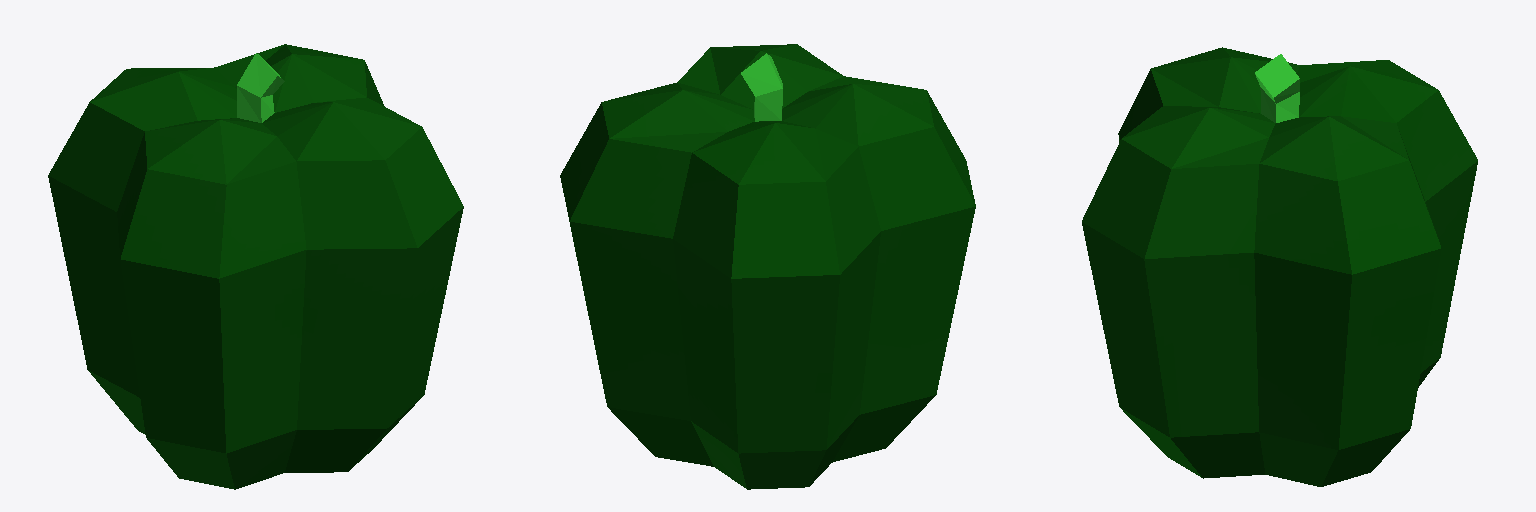
3 views of the same model, side by side, from view 1: azimuth 30°, elevation 25°; view 2: azimuth 150°, elevation 25°; view 3: azimuth 270°, elevation 25° (orthographic).
Parts seen in each view (by area): view 1: skin; view 2: skin; view 3: skin.
Boxes of the visible parts, box(x1,y1,x2,y2) form: skin: box(48, 44, 463, 489); skin: box(560, 44, 975, 489); skin: box(1082, 47, 1477, 486).
Size of the model in its own units: 0.9397 by 1.06 by 0.9397.
1 materials, 1 textured.